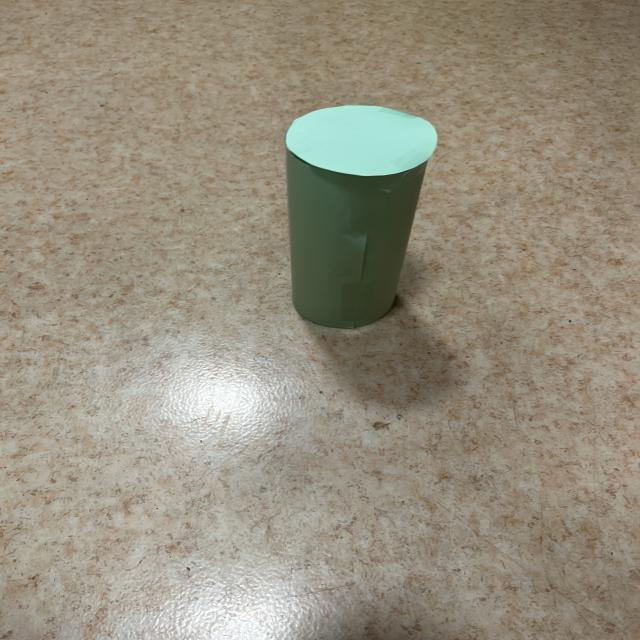meta: (285, 105, 438, 329)
